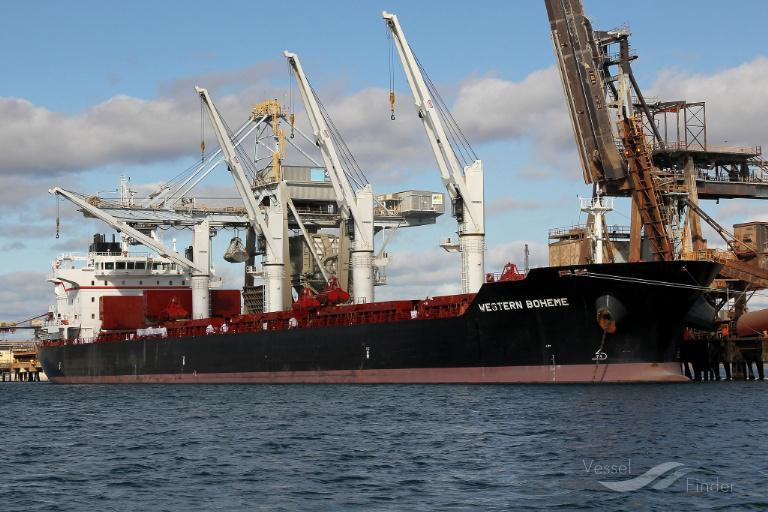OCR: (474, 290, 572, 318)
